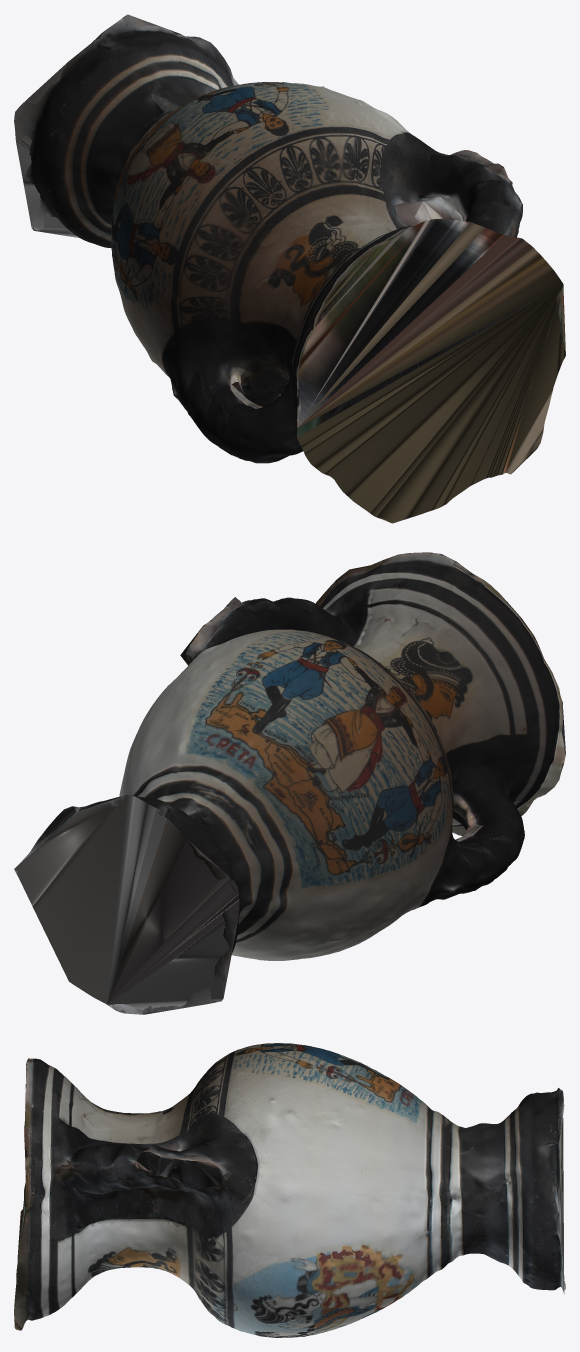
Rendered from amfora.glb.
The picture shows the model from 3 angles, top to bottom: view 1: azimuth 30°, elevation 25°; view 2: azimuth 150°, elevation 25°; view 3: azimuth 270°, elevation 25°; orthographic projection. The views are drawn at different scales.
Parts seen in each view (by area): view 1: Object_2, Object_4, Object_3; view 2: Object_2, Object_3, Object_4; view 3: Object_4, Object_2, Object_3.
Part boxes in pixels (bbox=[...]): Object_2: bbox=[14, 14, 565, 521]; Object_4: bbox=[110, 14, 565, 523]; Object_3: bbox=[53, 18, 521, 463]; Object_2: bbox=[14, 561, 565, 1014]; Object_3: bbox=[73, 561, 565, 1013]; Object_4: bbox=[14, 552, 455, 1001]; Object_4: bbox=[18, 1061, 562, 1275]; Object_2: bbox=[14, 1058, 564, 1337]; Object_3: bbox=[34, 1043, 565, 1289].
Bounding box in the file's own units: 3.18 × 3.12 × 5.86.
Materials: 3 (3 with a texture image).
